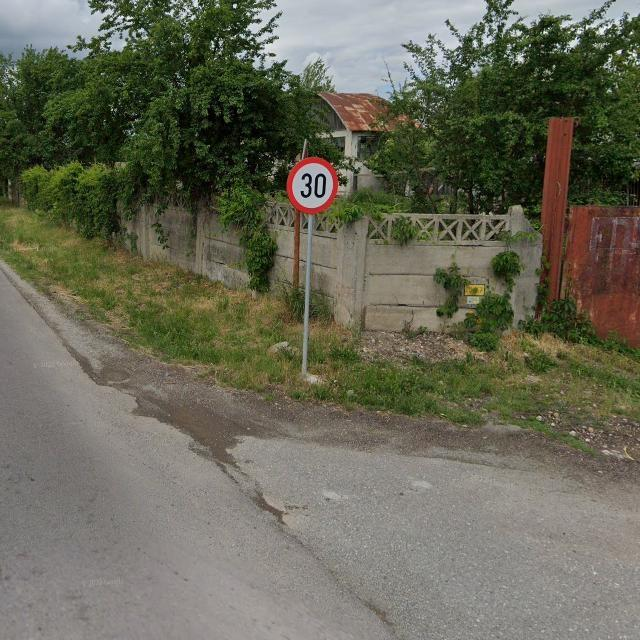forb_speed_over_30: (287, 157, 338, 211)
